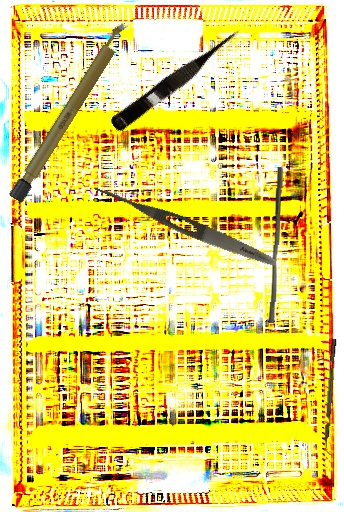Chopper: (321, 338, 343, 456)
Dressing Forceps: (90, 180, 280, 272)
Micro Scissor: (108, 24, 248, 136)
Pusher: (268, 166, 283, 324)
Scalpel Handle: (8, 19, 133, 204)
